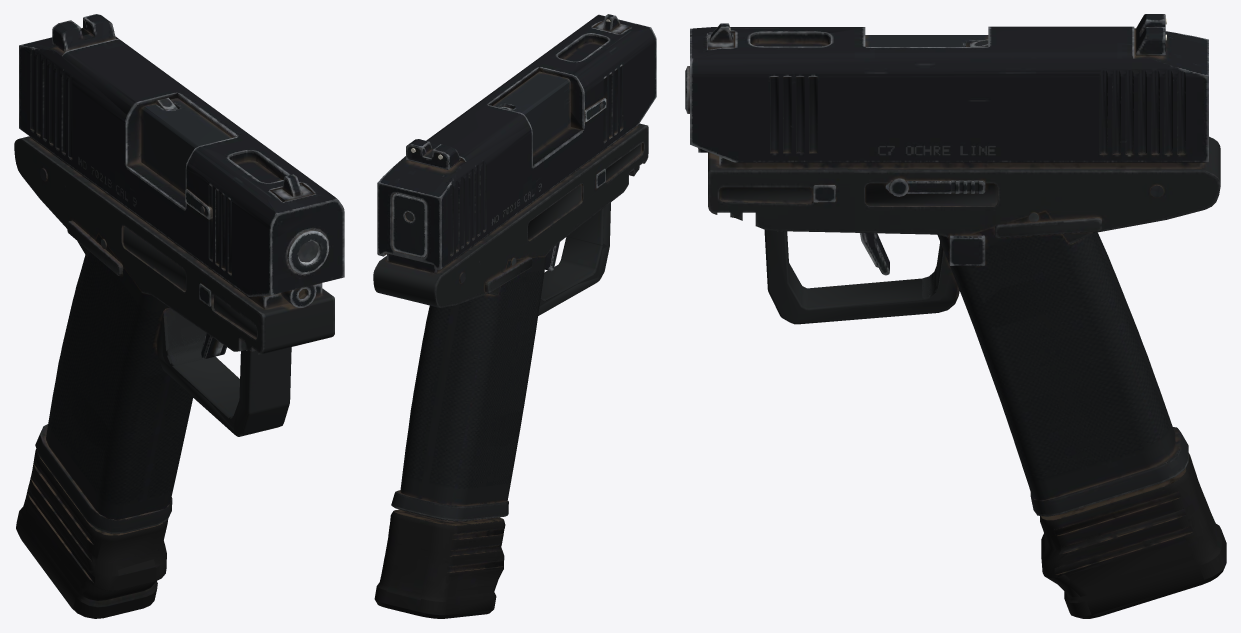
3 renders of one model, left to right at view 1: azimuth 30°, elevation 25°; view 2: azimuth 150°, elevation 25°; view 3: azimuth 270°, elevation 25°, orthographic. The views are drawn at different scales.
Visible parts, largest first — view 1: c7, c7_w, c7_slide, c7_mag; view 2: c7, c7_slide, c7_w, c7_mag; view 3: c7, c7_slide, c7_w, c7_mag.
Part boxes in pixels (<box>): c7: <box>14,97,334,533</box>; c7_w: <box>14,20,344,618</box>; c7_slide: <box>19,14,344,296</box>; c7_mag: <box>16,449,168,618</box>; c7: <box>373,71,648,521</box>; c7_slide: <box>377,14,656,269</box>; c7_w: <box>373,14,656,618</box>; c7_mag: <box>374,509,505,618</box>; c7: <box>685,35,1220,516</box>; c7_slide: <box>690,14,1208,162</box>; c7_w: <box>685,14,1224,616</box>; c7_mag: <box>1040,453,1226,618</box>.
Size of the model in its own units: 0.03 by 0.1977 by 0.1668.
1 material, 1 textured.
